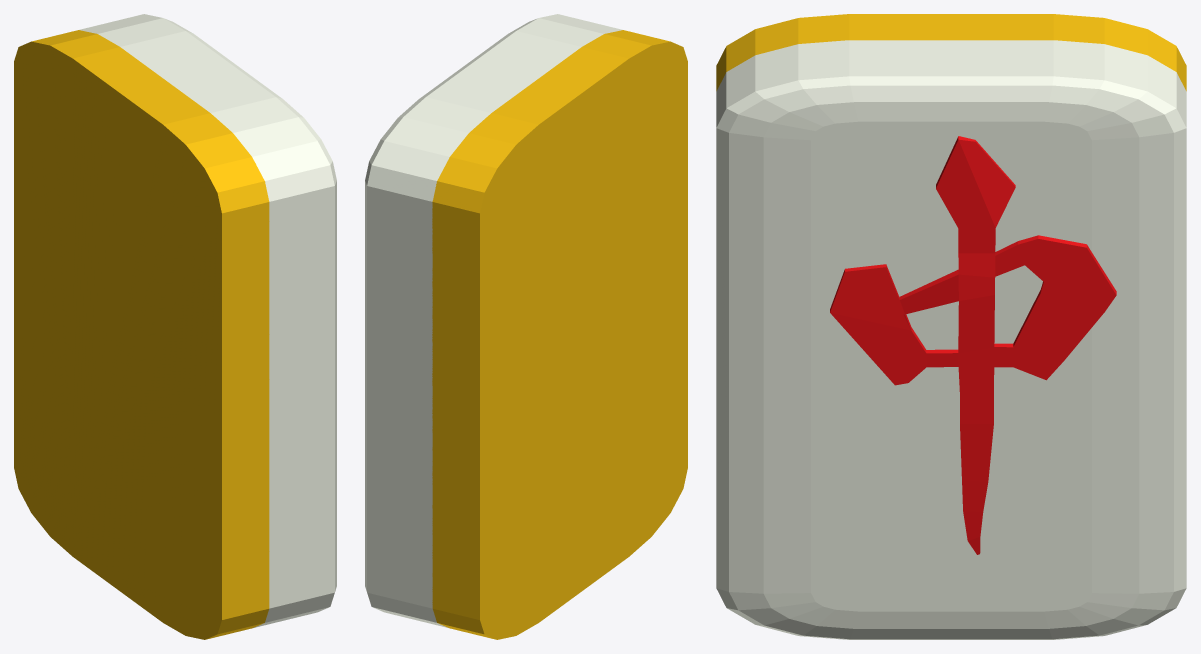
Rendered from Mahjong1.fbx.
The picture shows the model from 3 angles, left to right: view 1: azimuth 30°, elevation 25°; view 2: azimuth 150°, elevation 25°; view 3: azimuth 270°, elevation 25°; orthographic projection. The views are drawn at different scales.
Visible parts, largest first — view 1: Cube; view 2: Cube; view 3: Cube.
Part boxes in pixels (x1,y1,x2,y2): Cube: (14,14,336,639); Cube: (365,14,687,639); Cube: (716,14,1186,639).
Bounding box in the file's own units: 169 × 583 × 441.
